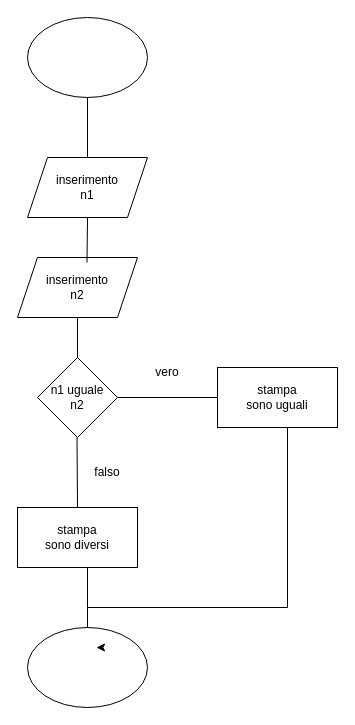
This 355x725 diagram has some shape labels left out. The centre of each missing label's shape, as x and y in pixels:
"fine" goes at (x=87, y=667).
"inizio" goes at (x=87, y=57).
